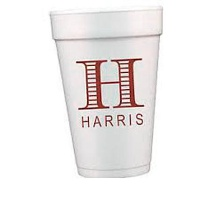paper_cup: (43, 0, 170, 183)
